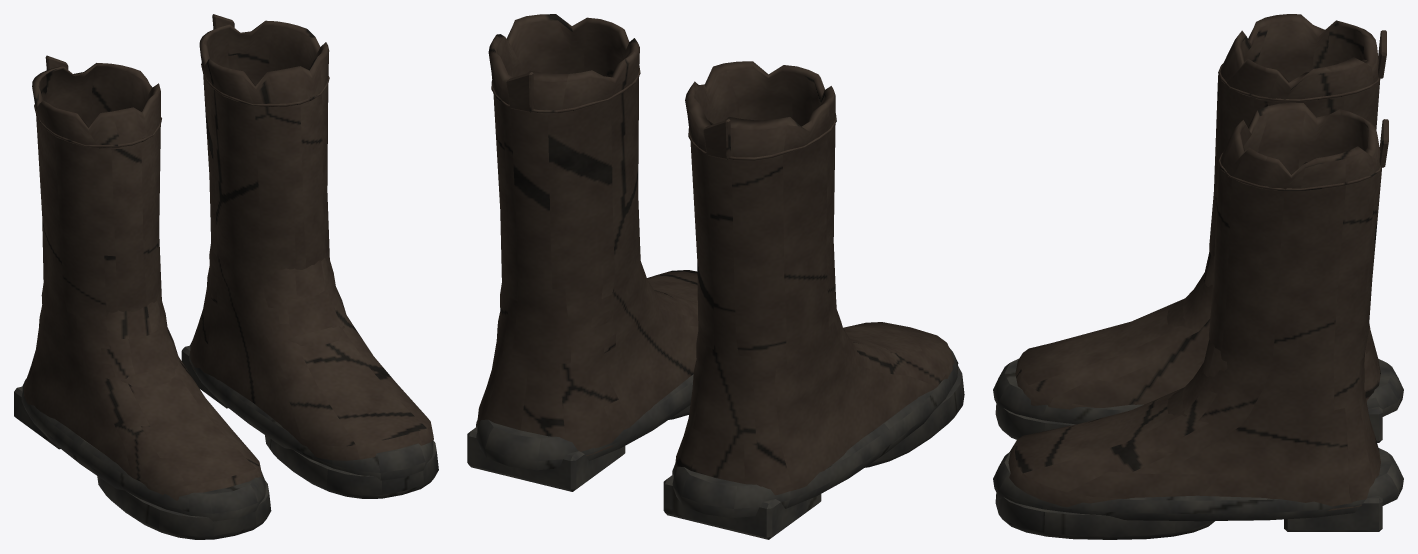
The model's file is boots_aged.glb.
The picture shows the model from 3 angles, left to right: view 1: azimuth 30°, elevation 25°; view 2: azimuth 150°, elevation 25°; view 3: azimuth 270°, elevation 25°; orthographic projection. The views are drawn at different scales.
Parts seen in each view (by area): view 1: LeatherUpper_R, LeatherUpper_L, Sole_L, Sole_R, ForeSole_L, ForeSole_R, Heel_L; view 2: LeatherUpper_L, LeatherUpper_R, Sole_L, Sole_R, Heel_L, Heel_R, ForeSole_L, PullTab_R, PullTab_L; view 3: LeatherUpper_R, LeatherUpper_L, Sole_R, ForeSole_R, Sole_L, Heel_R, ForeSole_L, ShaftSeam_L, ShaftSeam_R.
Boxes of the visible parts, x1,y1,x2,y2 form: LeatherUpper_R: [189, 20, 433, 460]; LeatherUpper_L: [23, 63, 262, 500]; Sole_L: [21, 378, 265, 521]; Sole_R: [189, 341, 433, 480]; ForeSole_L: [97, 476, 271, 539]; ForeSole_R: [265, 435, 438, 498]; Heel_L: [14, 386, 60, 449]; LeatherUpper_L: [675, 61, 954, 495]; LeatherUpper_R: [477, 14, 698, 455]; Sole_L: [672, 348, 958, 518]; Sole_R: [476, 374, 693, 470]; Heel_L: [663, 474, 821, 539]; Heel_R: [467, 426, 625, 491]; ForeSole_L: [865, 366, 964, 467]; PullTab_R: [506, 72, 533, 112]; PullTab_L: [703, 119, 730, 159]; LeatherUpper_R: [1008, 102, 1381, 510]; LeatherUpper_L: [1015, 14, 1380, 409]; Sole_R: [993, 448, 1403, 521]; ForeSole_R: [995, 493, 1214, 539]; Sole_L: [993, 358, 1403, 424]; Heel_R: [1284, 495, 1382, 531]; ForeSole_L: [995, 404, 1075, 439]; ShaftSeam_L: [1218, 64, 1379, 101]; ShaftSeam_R: [1218, 153, 1381, 190].
Size of the model in its own units: 0.294 by 0.3299 by 0.32.
Materials: 2 (2 with a texture image).
